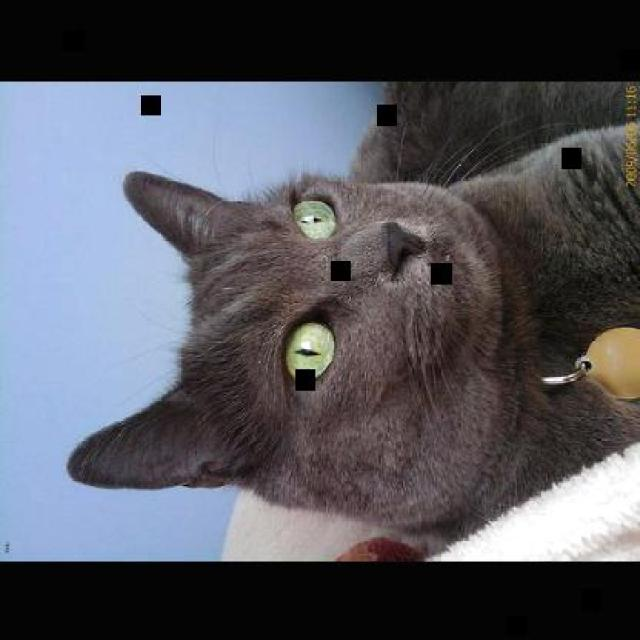unauthorized: (64, 82, 638, 560)
